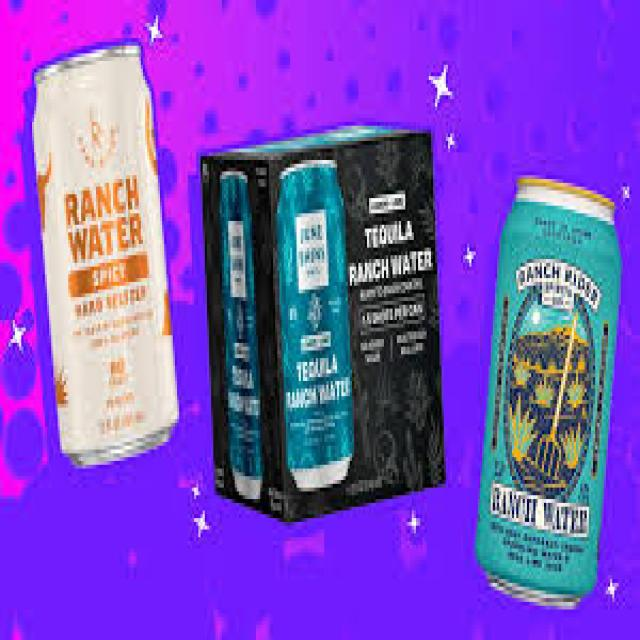Cans: (30, 30, 190, 480), (476, 168, 623, 621)
